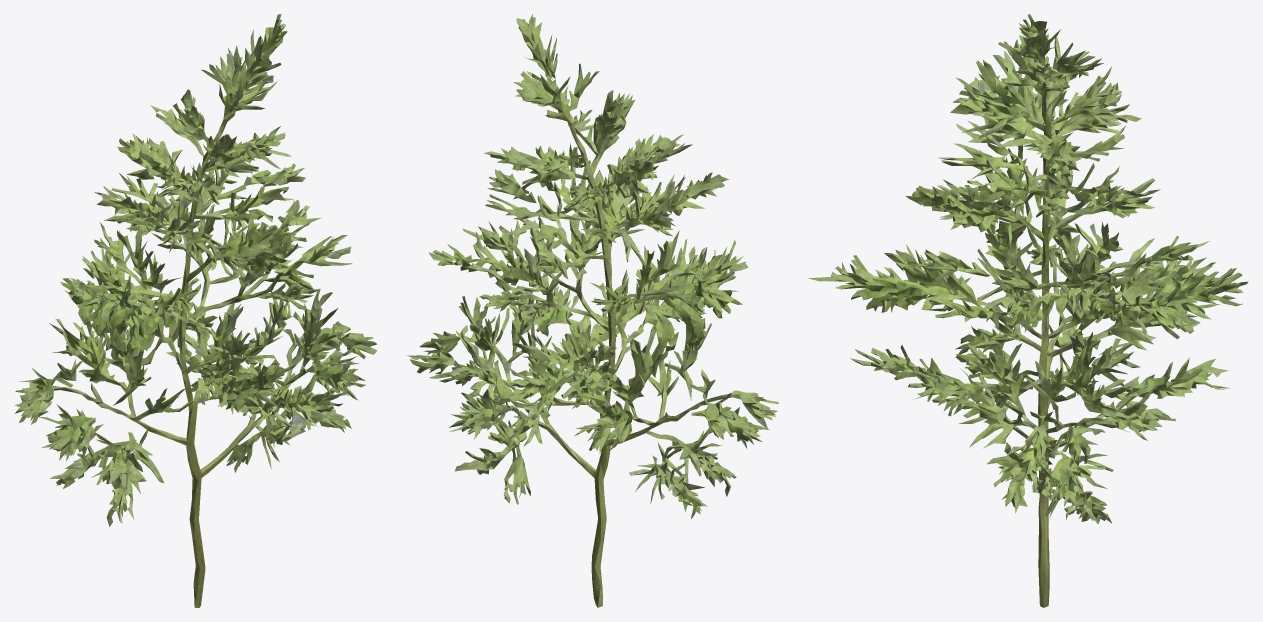
Rendered from lux-asparagus-fern.glb.
3 views of the same model, side by side, from view 1: azimuth 30°, elevation 25°; view 2: azimuth 150°, elevation 25°; view 3: azimuth 270°, elevation 25° (orthographic). The views are drawn at different scales.
Parts seen in each view (by area): view 1: geometry_0; view 2: geometry_0; view 3: geometry_0.
Boxes of the visible parts, x1,y1,x2,y2 form: geometry_0: [14, 14, 377, 607]; geometry_0: [406, 14, 778, 607]; geometry_0: [808, 14, 1248, 607].
Size of the model in its own units: 0.2954 by 0.45 by 0.2848.
Materials: 1 (1 with a texture image).
